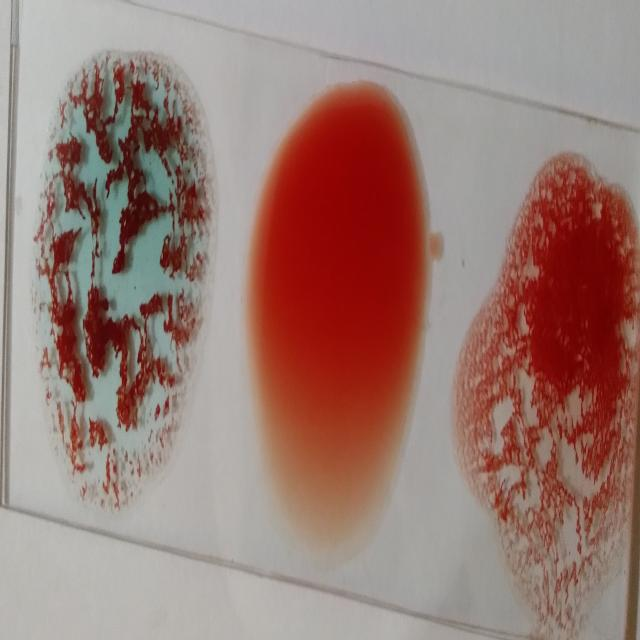A: (40, 46, 202, 506)
D: (475, 160, 640, 620)
